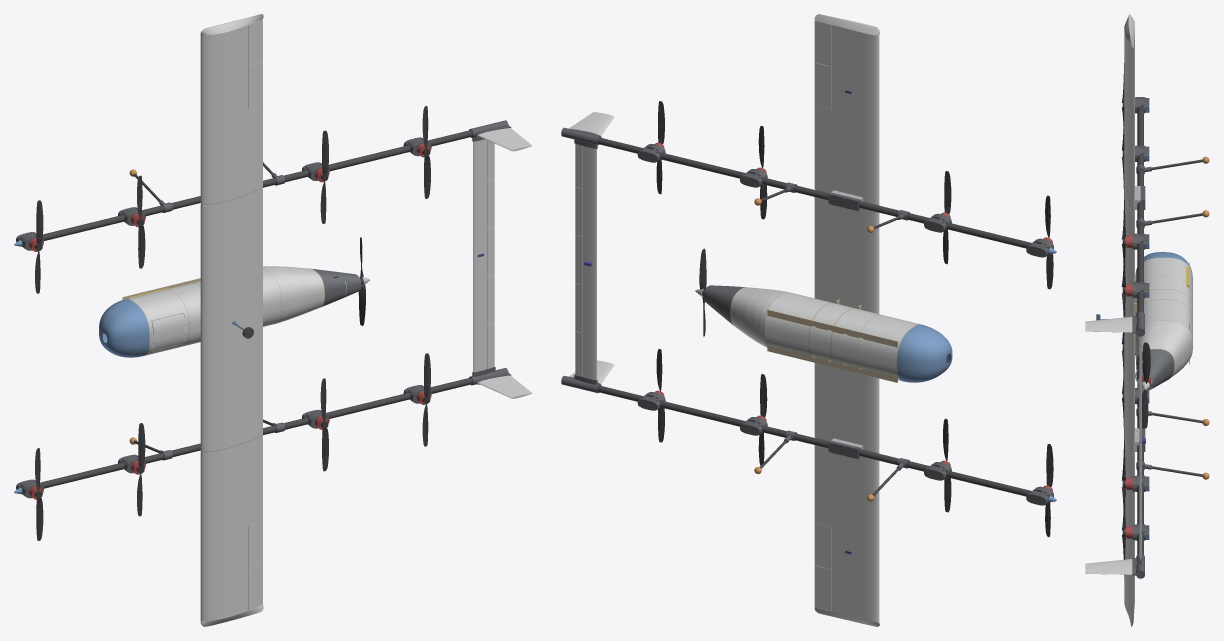
Rendered from E8S_assembly.glb.
3 renders of one model, left to right at view 1: azimuth 30°, elevation 25°; view 2: azimuth 150°, elevation 25°; view 3: azimuth 270°, elevation 25°, orthographic. The views are drawn at different scales.
Visible parts, largest first — view 1: W-C#1, W-C#3, W-C#2, W-C#0, W-R#0, W-O#2, W-O#1, W-O#0, W-O#3, FUS-0#0, FUS-5#0, W-A1#0 (+15 smaller); view 2: W-C#0, W-C#3, W-O#1, W-O#3, W-C#1, W-O#0, FUS-0#0, FUS-4#0, W-O#2, FUS-1#0, W-A2#0, W-A2#1 (+19 smaller); view 3: FUS-5#0, FUS-4#0, FUS-6#0, FUS-1#0, BM-R#0, FUS-2#0, W-C#3, W-C#2, PROP-P#0, FUS-3#0, W-O#1, W-O#0 (+22 smaller).
Boxes of the visible parts, <box> form: W-C#1: <box>200,188,262,254</box>; W-C#3: <box>200,385,262,451</box>; W-C#2: <box>200,336,262,402</box>; W-C#0: <box>200,238,262,303</box>; W-R#0: <box>200,287,262,352</box>; W-O#2: <box>200,436,262,494</box>; W-O#1: <box>200,103,262,161</box>; W-O#0: <box>200,145,262,203</box>; W-O#3: <box>200,478,262,536</box>; FUS-0#0: <box>99,299,149,357</box>; FUS-5#0: <box>263,266,324,322</box>; W-A1#0: <box>200,67,248,119</box>; W-C#0: <box>814,240,879,304</box>; W-C#3: <box>814,388,879,452</box>; W-O#1: <box>814,105,879,161</box>; W-O#3: <box>814,481,879,537</box>; W-C#1: <box>814,197,879,254</box>; W-O#0: <box>814,147,879,204</box>; FUS-0#0: <box>897,324,952,382</box>; FUS-4#0: <box>765,292,830,355</box>; W-O#2: <box>814,445,879,495</box>; FUS-1#0: <box>857,314,919,380</box>; W-A2#0: <box>832,25,879,77</box>; W-A2#1: <box>832,569,879,622</box>; FUS-5#0: <box>1135,321,1192,377</box>; FUS-4#0: <box>1135,300,1192,343</box>; FUS-6#0: <box>1136,349,1174,390</box>; FUS-1#0: <box>1135,258,1192,295</box>; BM-R#0: <box>1137,202,1143,335</box>; FUS-2#0: <box>1135,276,1192,307</box>; W-C#3: <box>1124,390,1134,455</box>; W-C#2: <box>1124,342,1134,407</box>; PROP-P#0: <box>1142,342,1150,428</box>; FUS-3#0: <box>1135,289,1192,318</box>; W-O#1: <box>1124,113,1134,172</box>; W-O#0: <box>1124,154,1134,213</box>.
Size of the model in its own units: 2498 by 2900 by 557.
